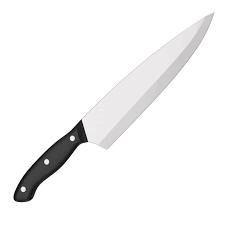Knife: (13, 11, 214, 202)
